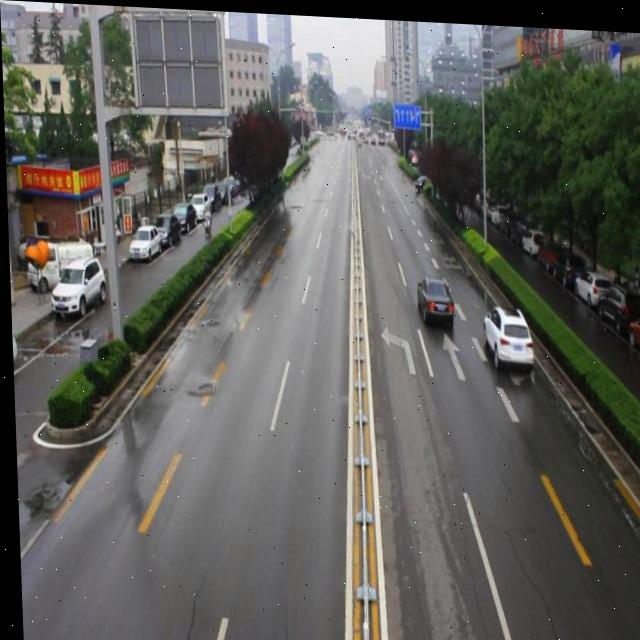car: (478, 298, 531, 365), (413, 269, 450, 323), (412, 169, 429, 186)
